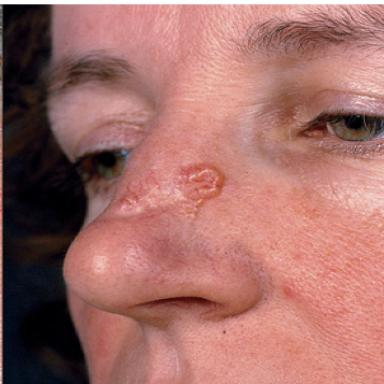basal-cell-carcinoma: (176, 163, 223, 201)
